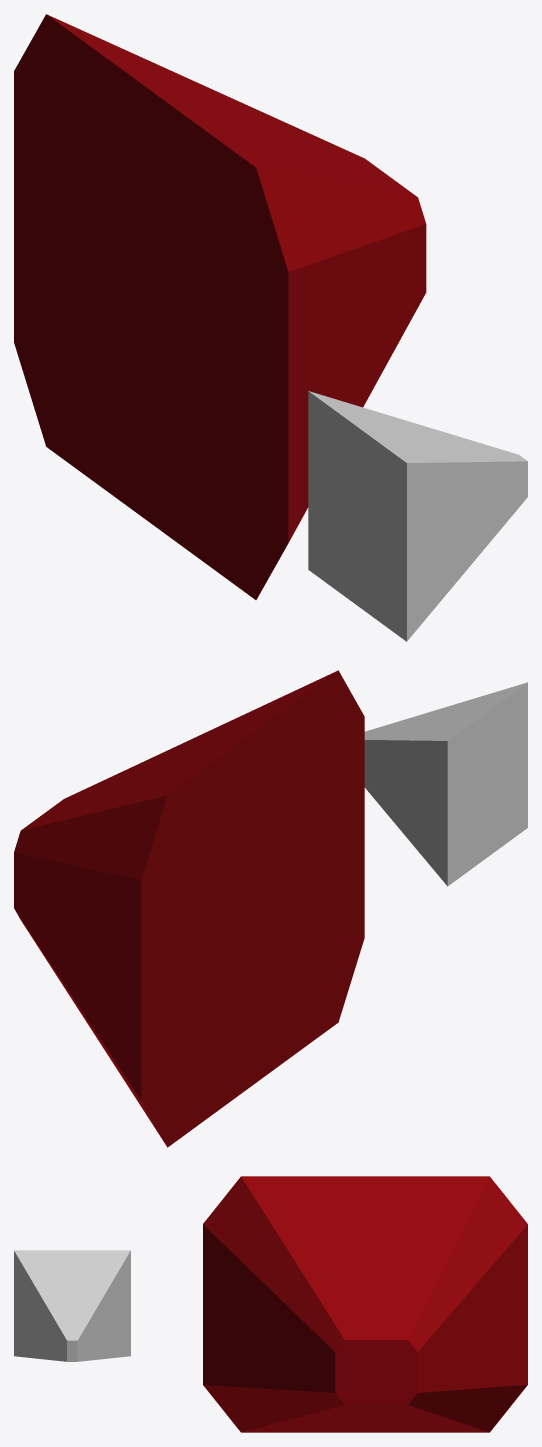
Rendered from piramideFORMATO _RELOGIO.fbx.
3 renders of one model, top to bottom at view 1: azimuth 30°, elevation 25°; view 2: azimuth 150°, elevation 25°; view 3: azimuth 270°, elevation 25°, orthographic. The views are drawn at different scales.
Visible parts, largest first — view 1: Cube, Plane; view 2: Cube, Plane; view 3: Cube, Plane.
Boxes of the visible parts, x1,y1,x2,y2 form: Cube: [14, 14, 426, 599]; Plane: [308, 391, 527, 641]; Cube: [14, 670, 364, 1147]; Plane: [364, 682, 527, 886]; Cube: [203, 1176, 527, 1432]; Plane: [14, 1250, 130, 1361].
Size of the model in its own units: 1499 by 2133 by 3876.
